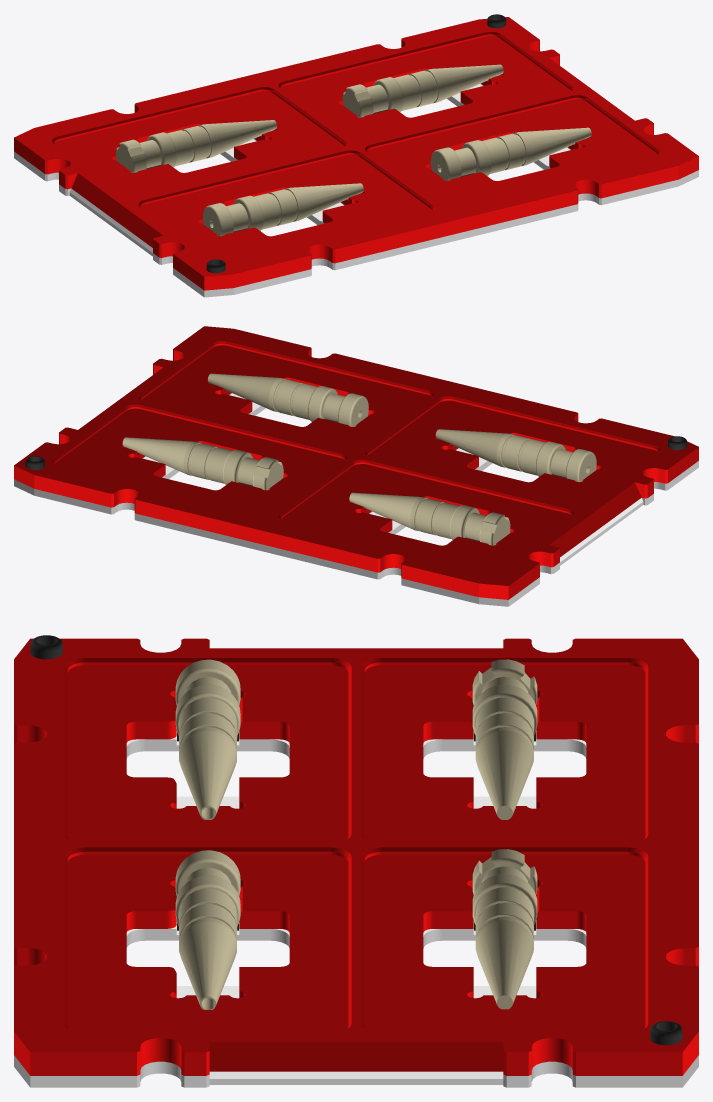
The model's file is Wine Stopper Pallet.fbx.
3 renders of one model, top to bottom at view 1: azimuth 30°, elevation 25°; view 2: azimuth 150°, elevation 25°; view 3: azimuth 270°, elevation 25°, orthographic. The views are drawn at different scales.
Visible parts, largest first — view 1: Wine_stopper_pallet, ???3.064, ???3.2339, ???3.2340, ???3.310; view 2: Wine_stopper_pallet, ???3.064, ???3.2340, ???3.310, ???3.2339; view 3: Wine_stopper_pallet, ???3.2339, ???3.064, ???3.310, ???3.2340.
Boxes of the visible parts, x1,y1,x2,y2 form: Wine_stopper_pallet: (14,14,698,297); ???3.064: (430,127,591,180); ???3.2339: (203,183,363,236); ???3.2340: (342,64,503,117); ???3.310: (116,120,276,172); Wine_stopper_pallet: (14,326,698,606); ???3.064: (208,373,368,426); ???3.2340: (122,437,283,490); ???3.310: (349,492,510,545); ???3.2339: (435,429,596,481); Wine_stopper_pallet: (14,635,698,1087); ???3.2339: (175,659,240,819); ???3.064: (175,850,240,1009); ???3.310: (472,659,537,819); ???3.2340: (472,849,537,1009).
Bounding box in the file's own units: 0.3337 × 0.0245 × 0.2335.
